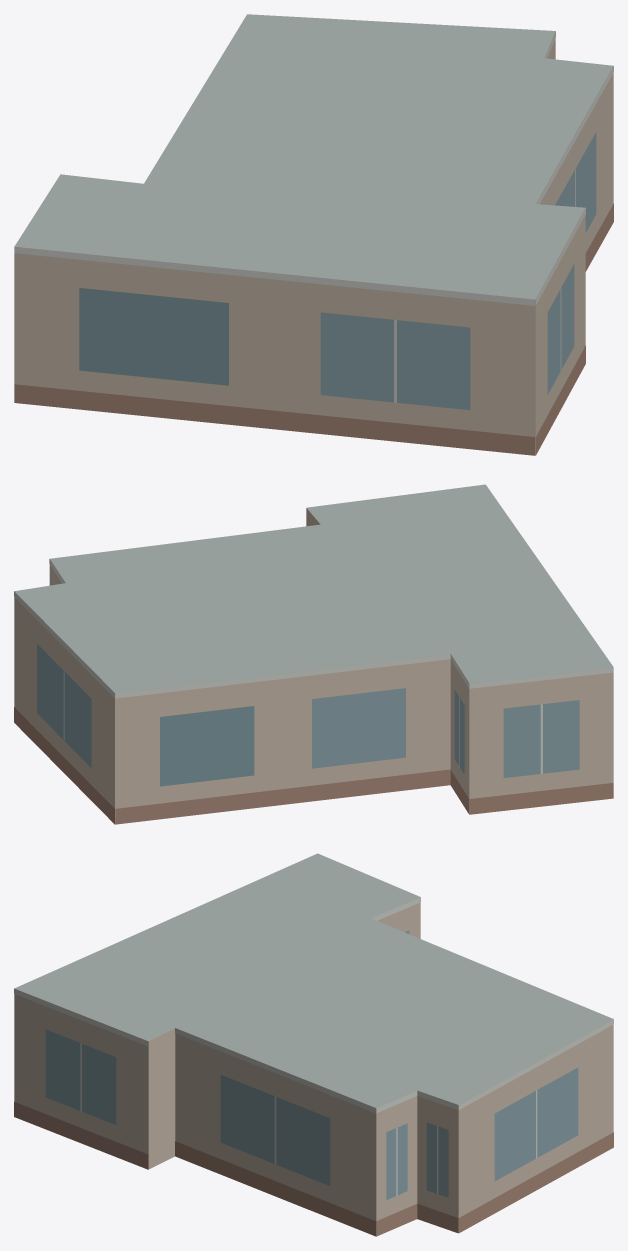
Rendered from survey-upis-32904889.glb.
The picture shows the model from 3 angles, top to bottom: view 1: azimuth 30°, elevation 25°; view 2: azimuth 150°, elevation 25°; view 3: azimuth 270°, elevation 25°; orthographic projection. The views are drawn at different scales.
Visible parts, largest first — view 1: survey-upis-32904889.tmp; view 2: survey-upis-32904889.tmp; view 3: survey-upis-32904889.tmp.
Part boxes in pixels (x1,y1,x2,y2): survey-upis-32904889.tmp: (14, 14, 613, 455); survey-upis-32904889.tmp: (14, 484, 613, 824); survey-upis-32904889.tmp: (14, 853, 613, 1236).
Size of the model in its own units: 12.99 by 3.05 by 12.92.
